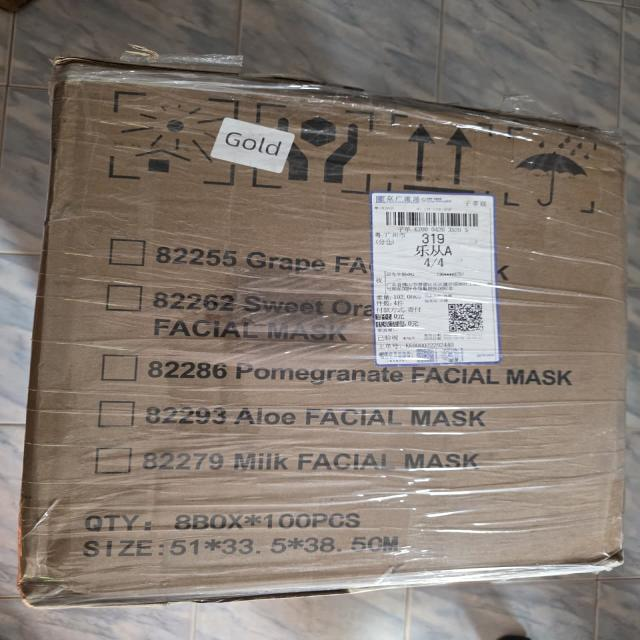carton_box: (14, 34, 634, 620)
export_mark_label: (362, 188, 518, 373)
handle_with_care_label: (240, 88, 387, 206)
keep_dry_label: (507, 121, 612, 225)
protect_from_heat_label: (82, 73, 249, 191)
this_side_up_label: (374, 101, 514, 213)
